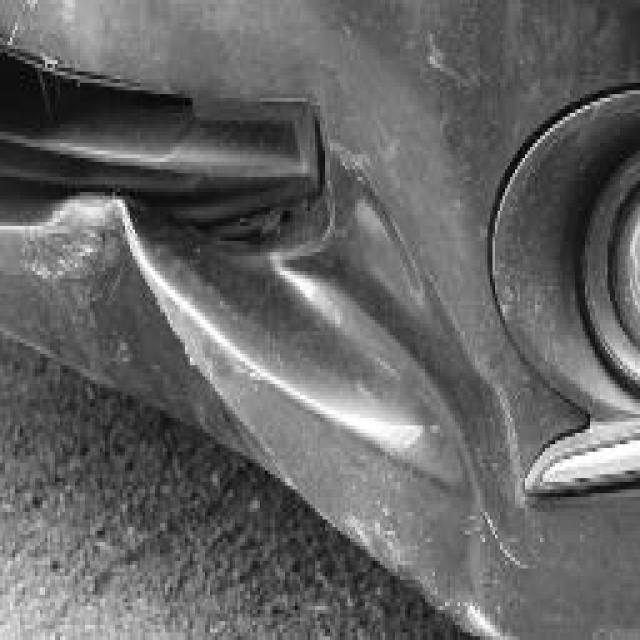Bumper: (0, 0, 575, 640)
